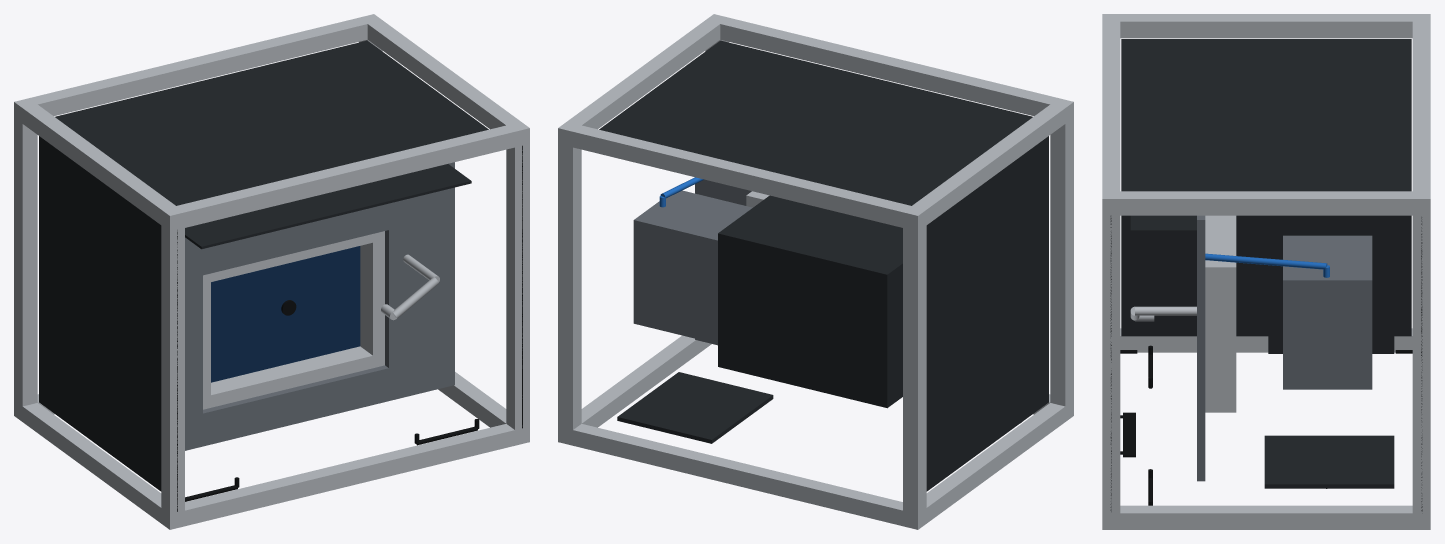
3 views of the same model, side by side, from view 1: azimuth 30°, elevation 25°; view 2: azimuth 150°, elevation 25°; view 3: azimuth 270°, elevation 25° (orthographic). The views are drawn at different scales.
Parts seen in each view (by area): view 1: BACK_INFILL_PANEL, LEFT_INFILL_PANEL, BASIN_FLOOR, SINK_COUNTER_RIGHT, FRAME_WIDTH_RAIL_08, FRAME_WIDTH_RAIL_06, FRAME_WIDTH_RAIL_07, SPLASH_PANEL, SINK_COUNTER_FRONT, FRAME_DEPTH_RAIL_10, FRAME_DEPTH_RAIL_09, FRAME_DEPTH_RAIL_12 (+10 smaller); view 2: BACK_INFILL_PANEL, LEFT_INFILL_PANEL, GREY_WATER_TANK, PUMP_SERVICE_BAY, FRAME_WIDTH_RAIL_07, FRAME_WIDTH_RAIL_05, FRAME_WIDTH_RAIL_08, FRAME_DEPTH_RAIL_09, FRAME_DEPTH_RAIL_11, FRAME_DEPTH_RAIL_10, LOWER_SERVICE_DOOR, FRAME_POST_02 (+4 smaller); view 3: BACK_INFILL_PANEL, PUMP_SERVICE_BAY, LEFT_INFILL_PANEL, FRAME_POST_04, FRAME_POST_03, FRAME_POST_02, LOWER_SERVICE_DOOR, GREY_WATER_TANK, FRAME_DEPTH_RAIL_11, FRAME_DEPTH_RAIL_12, BASIN_WALL_RIGHT, FRAME_WIDTH_RAIL_07 (+8 smaller).
Part boxes in pixels (left/top/right/bottom): BACK_INFILL_PANEL: left=55, top=40, right=488, bottom=205; LEFT_INFILL_PANEL: left=39, top=136, right=161, bottom=491; BASIN_FLOOR: left=211, top=246, right=360, bottom=382; SINK_COUNTER_RIGHT: left=385, top=162, right=454, bottom=400; FRAME_WIDTH_RAIL_08: left=177, top=125, right=514, bottom=227; FRAME_WIDTH_RAIL_06: left=185, top=424, right=514, bottom=526; FRAME_WIDTH_RAIL_07: left=29, top=17, right=367, bottom=115; SPLASH_PANEL: left=185, top=164, right=471, bottom=249; SINK_COUNTER_FRONT: left=203, top=365, right=388, bottom=446; FRAME_DEPTH_RAIL_10: left=161, top=225, right=184, bottom=513; FRAME_DEPTH_RAIL_09: left=14, top=118, right=37, bottom=406; FRAME_DEPTH_RAIL_12: left=506, top=144, right=529, bottom=429; BACK_INFILL_PANEL: left=599, top=40, right=1032, bottom=205; LEFT_INFILL_PANEL: left=926, top=136, right=1048, bottom=491; GREY_WATER_TANK: left=718, top=195, right=902, bottom=408; PUMP_SERVICE_BAY: left=633, top=190, right=752, bottom=343; FRAME_WIDTH_RAIL_07: left=573, top=125, right=910, bottom=227; FRAME_WIDTH_RAIL_05: left=573, top=424, right=902, bottom=526; FRAME_WIDTH_RAIL_08: left=720, top=17, right=1058, bottom=115; FRAME_DEPTH_RAIL_09: left=903, top=225, right=926, bottom=513; FRAME_DEPTH_RAIL_11: left=558, top=144, right=581, bottom=429; FRAME_DEPTH_RAIL_10: left=1050, top=118, right=1073, bottom=406; LOWER_SERVICE_DOOR: left=617, top=372, right=773, bottom=443; FRAME_POST_02: left=903, top=98, right=1073, bottom=231; BACK_INFILL_PANEL: left=1121, top=39, right=1411, bottom=191; PUMP_SERVICE_BAY: left=1283, top=235, right=1372, bottom=389; LEFT_INFILL_PANEL: left=1121, top=215, right=1411, bottom=336; FRAME_POST_04: left=1102, top=191, right=1430, bottom=215; FRAME_POST_03: left=1102, top=505, right=1430, bottom=529; FRAME_POST_02: left=1102, top=14, right=1430, bottom=38; LOWER_SERVICE_DOOR: left=1264, top=435, right=1394, bottom=488; GREY_WATER_TANK: left=1268, top=215, right=1394, bottom=353; FRAME_DEPTH_RAIL_11: left=1412, top=215, right=1430, bottom=513; FRAME_DEPTH_RAIL_12: left=1102, top=215, right=1120, bottom=513; BASIN_WALL_RIGHT: left=1205, top=261, right=1236, bottom=412; FRAME_WIDTH_RAIL_07: left=1412, top=21, right=1430, bottom=191.
Size of the model in its own units: 60.96 by 50.8 by 45.72.
